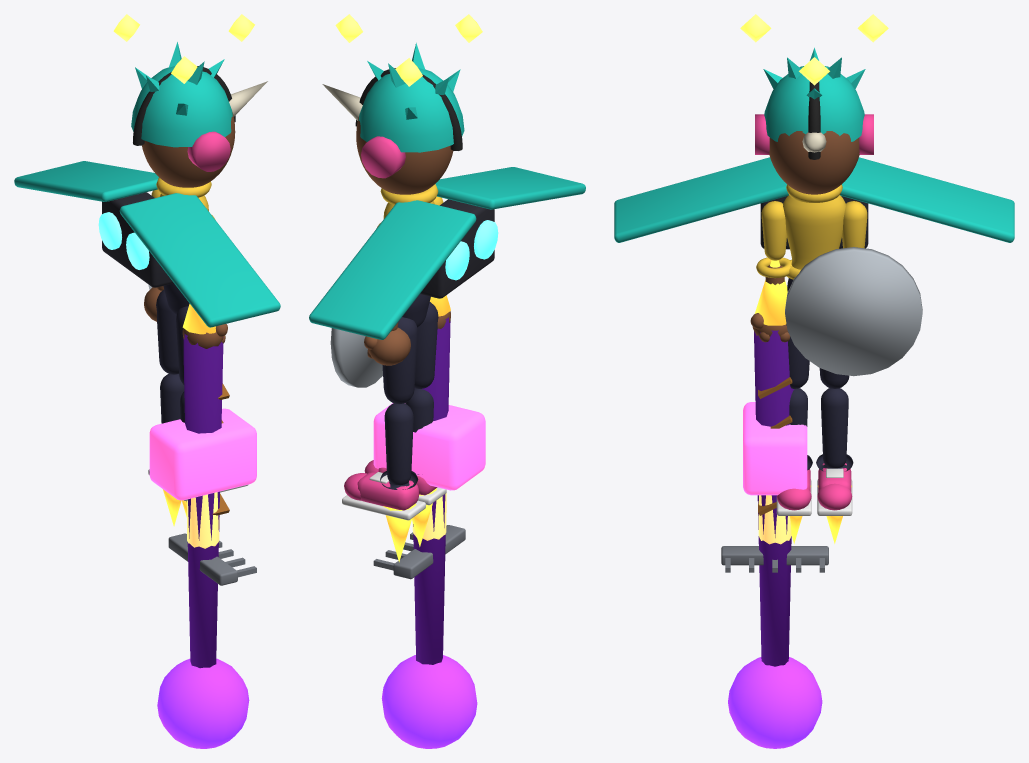
File: lola.glb
3 renders of one model, left to right at view 1: azimuth 30°, elevation 25°; view 2: azimuth 150°, elevation 25°; view 3: azimuth 270°, elevation 25°, orthographic. The views are drawn at different scales.
Visible parts, largest first — view 1: wing0, hammerHead, shadowArm, shadowFist, hairCap, wing1, skull, boombox, thigh.001, baguette, phone0, rakeHead (+10 smaller); view 2: wing1, shadowFist, hairCap, hammerHead, shadowArm, wing0, skull, prop:lid, calf.001, boombox, thigh.001, thigh (+14 smaller); view 3: prop:lid, wing0, wing1, shadowArm, shadowFist, hammerHead, hairCap, skull, torso, calf.001, rakeHead, upperArm (+5 smaller).
Part boxes in pixels (x1=…): wing0: x1=119, y1=193, x2=280, y2=327; hammerHead: x1=149, y1=408, x2=256, y2=500; shadowArm: x1=183, y1=334, x2=223, y2=668; shadowFist: x1=157, y1=658, x2=249, y2=748; hairCap: x1=131, y1=66, x2=232, y2=147; wing1: x1=14, y1=161, x2=158, y2=201; skull: x1=142, y1=112, x2=235, y2=187; boombox: x1=102, y1=192, x2=173, y2=287; thigh.001: x1=156, y1=289, x2=178, y2=374; baguette: x1=187, y1=492, x2=219, y2=548; phone0: x1=187, y1=131, x2=230, y2=171; rakeHead: x1=168, y1=533, x2=237, y2=585; wing1: x1=309, y1=200, x2=476, y2=339; shadowFist: x1=381, y1=655, x2=477, y2=748; hairCap: x1=358, y1=68, x2=464, y2=152; hammerHead: x1=373, y1=403, x2=485, y2=490; shadowArm: x1=413, y1=317, x2=450, y2=664; wing0: x1=435, y1=167, x2=585, y2=209; skull: x1=356, y1=117, x2=453, y2=194; prop:lid: x1=330, y1=328, x2=382, y2=387; calf.001: x1=384, y1=403, x2=413, y2=485; boombox: x1=420, y1=199, x2=494, y2=298; thigh.001: x1=382, y1=317, x2=417, y2=404; thigh: x1=414, y1=302, x2=438, y2=388; prop:lid: x1=785, y1=247, x2=922, y2=376; wing0: x1=614, y1=157, x2=788, y2=242; wing1: x1=840, y1=157, x2=1014, y2=242; shadowArm: x1=754, y1=330, x2=794, y2=666; shadowFist: x1=728, y1=657, x2=822, y2=748; hammerHead: x1=743, y1=402, x2=807, y2=495; hairCap: x1=764, y1=66, x2=864, y2=141; skull: x1=769, y1=131, x2=859, y2=194; torso: x1=783, y1=195, x2=845, y2=269; calf.001: x1=821, y1=388, x2=848, y2=468; rakeHead: x1=721, y1=546, x2=828, y2=565; upperArm: x1=761, y1=201, x2=786, y2=260.
Size of the model in its own units: 0.8618 by 3.68 by 1.86.
